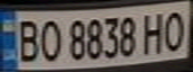3: (103, 13, 124, 60)
8: (118, 12, 142, 59), (63, 16, 87, 61), (84, 15, 106, 61)
B: (12, 16, 42, 63)
H: (139, 9, 169, 55)
O: (160, 6, 190, 53), (36, 16, 63, 63)
